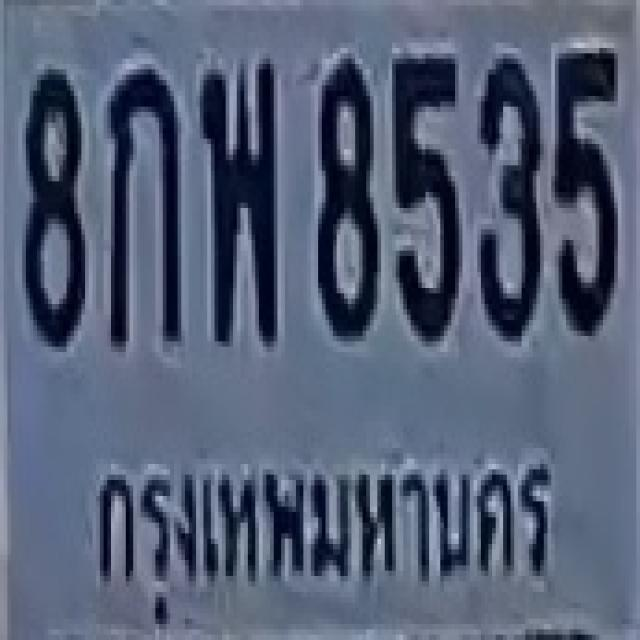3: (478, 53, 536, 336)
5: (390, 53, 457, 336), (551, 48, 614, 331)
8: (314, 53, 374, 336), (22, 64, 82, 341)
A01: (107, 64, 178, 341)
A30: (196, 56, 274, 339)
BKK: (84, 440, 560, 627)
